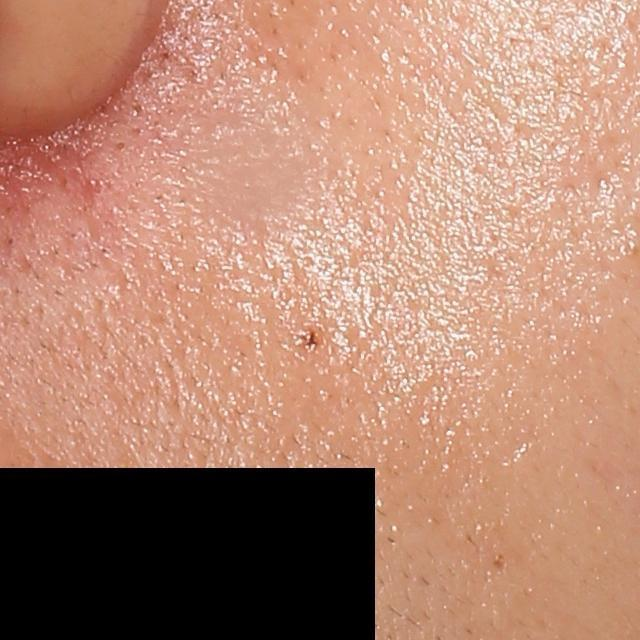nevus: (296, 325, 326, 354)
